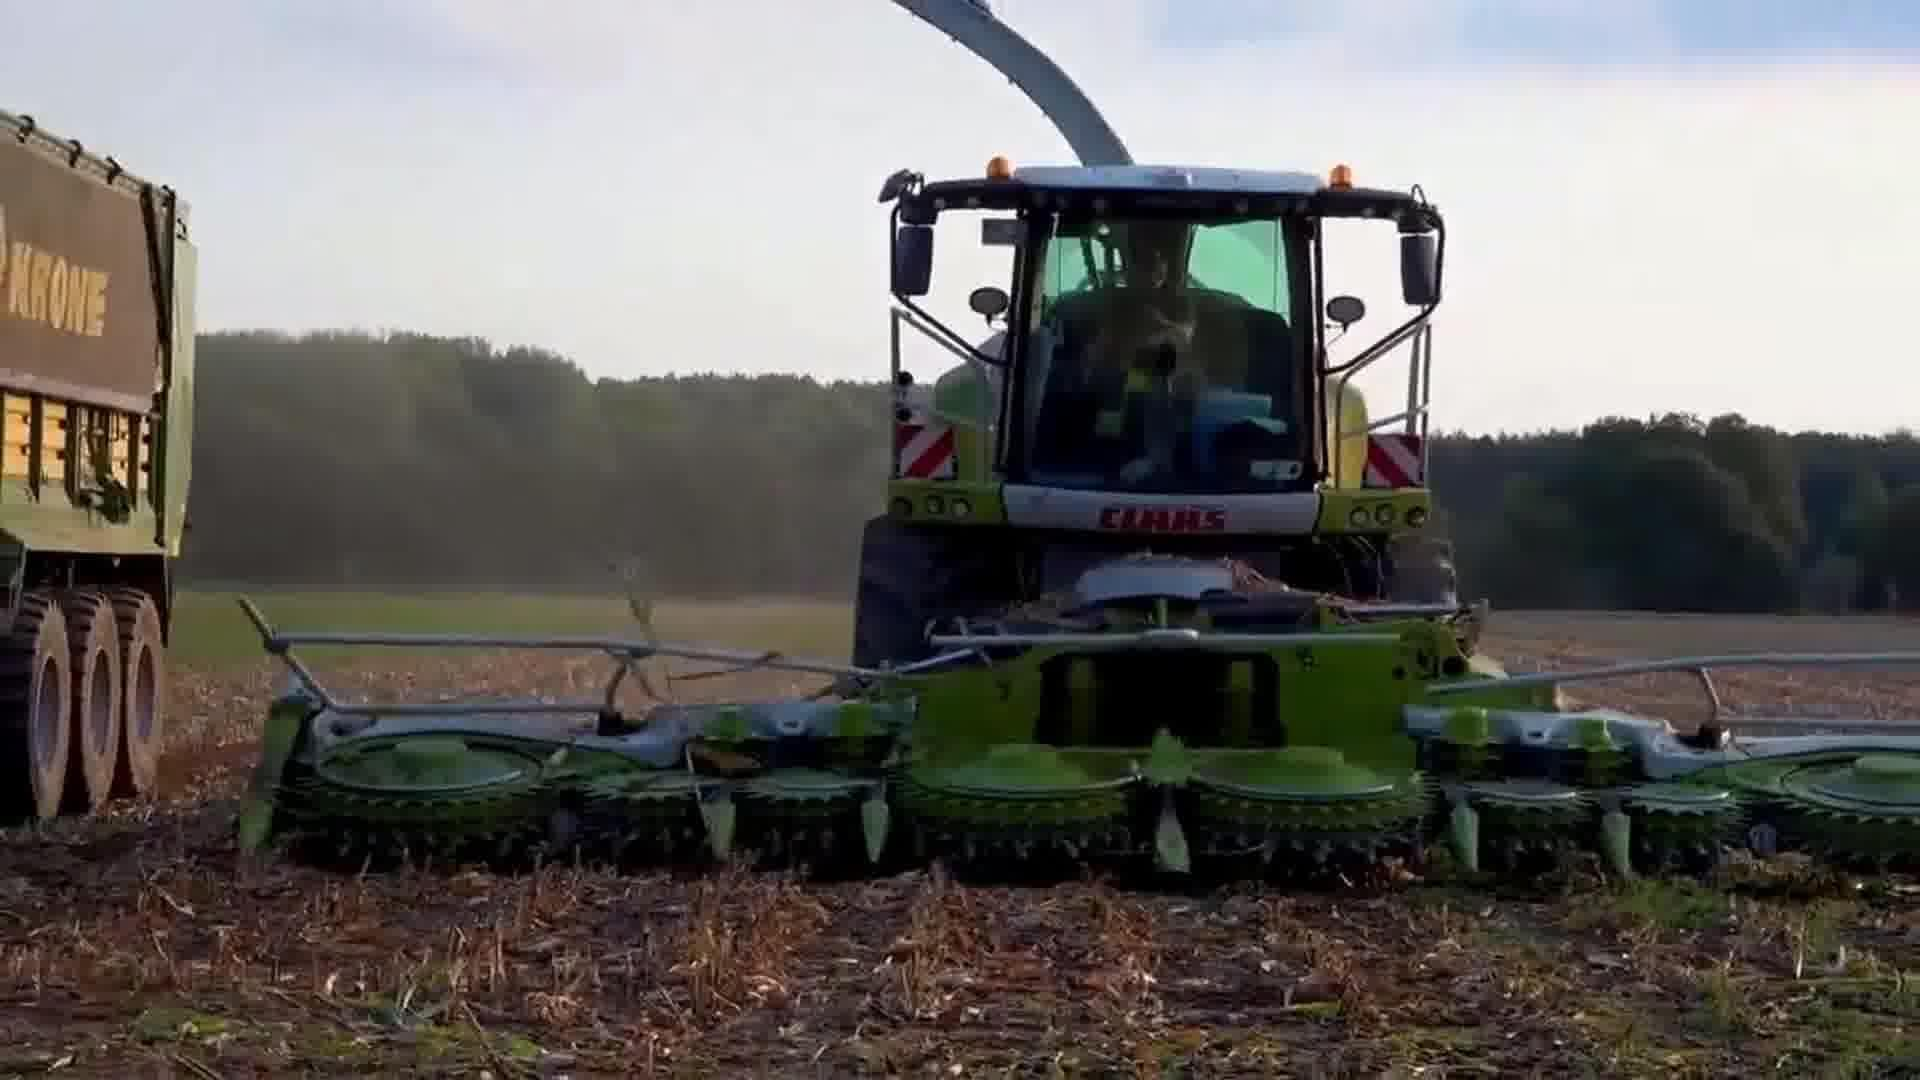combine harvester: (233, 4, 1920, 891)
trailer: (0, 91, 208, 835)
